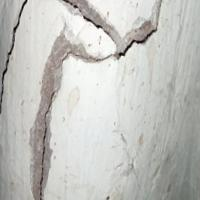crack: (0, 1, 166, 199)
